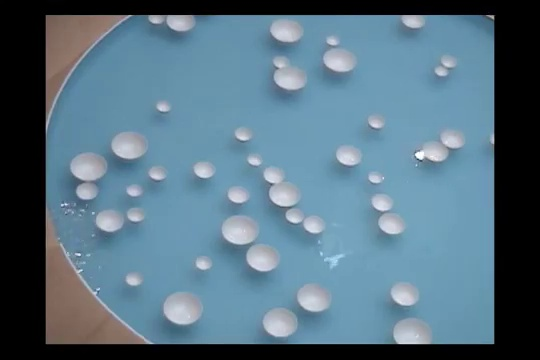bowl: (162, 290, 204, 326), (221, 214, 259, 246), (110, 130, 148, 162), (69, 152, 108, 183), (262, 307, 298, 340), (296, 282, 332, 315), (245, 243, 281, 275), (392, 317, 433, 343), (272, 66, 308, 94), (267, 180, 301, 209), (322, 48, 357, 76), (269, 18, 303, 45), (389, 281, 419, 307), (95, 209, 124, 235), (377, 212, 406, 236), (335, 144, 363, 168), (164, 14, 196, 33), (423, 141, 449, 164), (440, 129, 466, 151), (74, 181, 100, 202), (302, 214, 325, 235), (371, 193, 394, 213), (193, 160, 216, 180), (263, 165, 286, 185), (227, 186, 250, 205), (400, 14, 426, 30), (147, 165, 169, 183), (284, 207, 304, 225), (367, 114, 386, 132), (233, 126, 252, 144), (126, 207, 145, 224), (125, 183, 144, 199), (195, 255, 212, 272), (440, 54, 458, 70), (125, 271, 144, 286), (271, 55, 291, 69), (367, 170, 385, 185), (246, 153, 263, 168), (155, 99, 171, 114), (147, 14, 166, 26), (433, 65, 449, 78), (325, 34, 340, 47)
